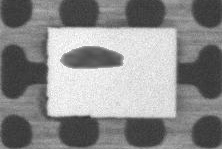DIE_INK: (57, 45, 125, 69)
